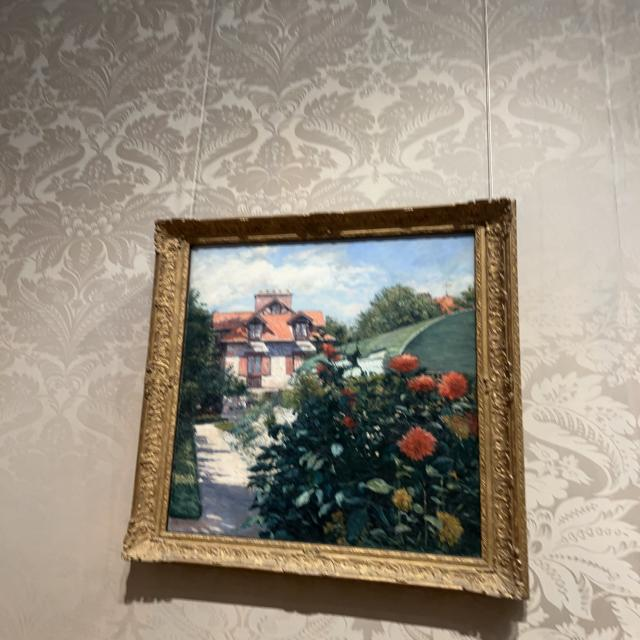summer: (169, 238, 480, 556)
